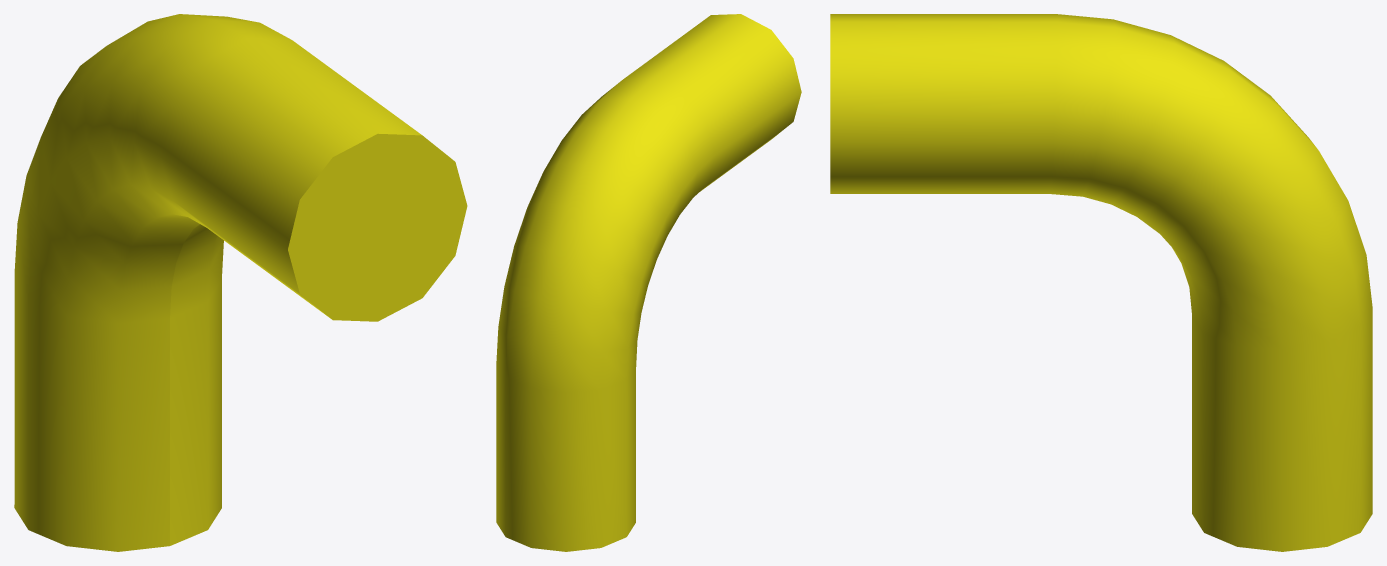
File: Pipe5.fbx
3 renders of one model, left to right at view 1: azimuth 30°, elevation 25°; view 2: azimuth 150°, elevation 25°; view 3: azimuth 270°, elevation 25°, orthographic. The views are drawn at different scales.
Parts seen in each view (by area): view 1: Pipe5; view 2: Pipe5; view 3: Pipe5.
Boxes of the visible parts, bbox=[...] form: Pipe5: bbox=[14, 14, 467, 551]; Pipe5: bbox=[496, 14, 801, 551]; Pipe5: bbox=[830, 14, 1372, 551].
Size of the model in its own units: 39.98 by 120 by 120.
